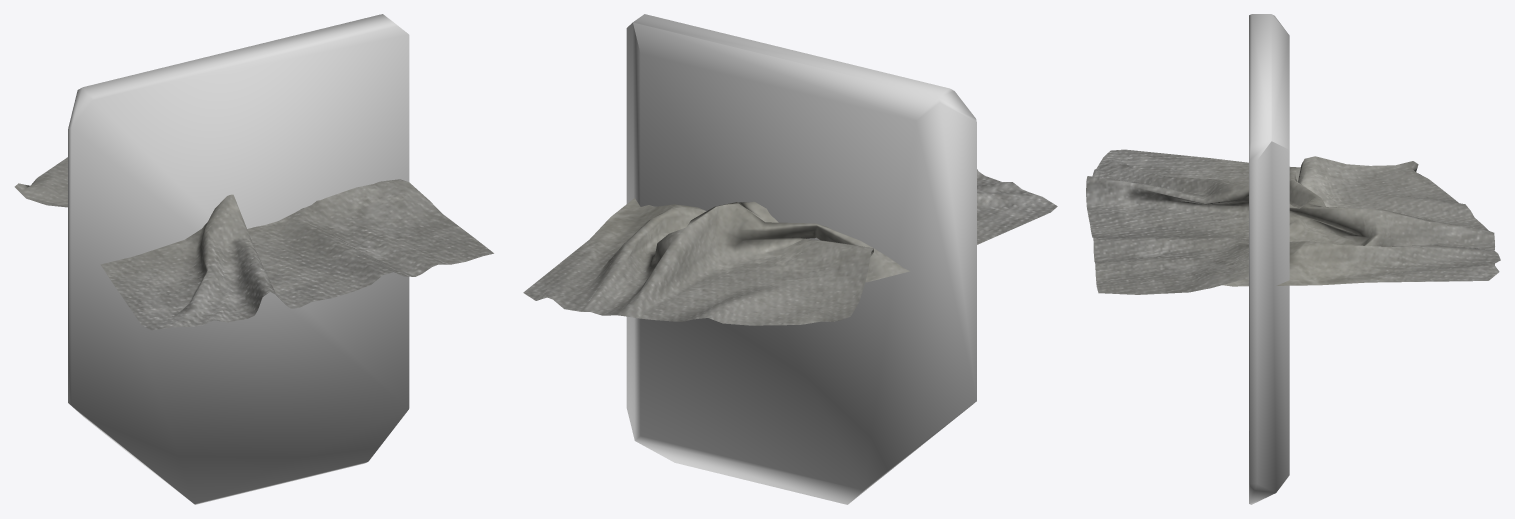
Rendered from SM_TissuGround.fbx.
3 renders of one model, left to right at view 1: azimuth 30°, elevation 25°; view 2: azimuth 150°, elevation 25°; view 3: azimuth 270°, elevation 25°, orthographic. The views are drawn at different scales.
Parts seen in each view (by area): view 1: SM_TissuGround_ConvexHulls, SM_TissuGround; view 2: SM_TissuGround_ConvexHulls, SM_TissuGround; view 3: SM_TissuGround, SM_TissuGround_ConvexHulls.
Boxes of the visible parts, box(x1,y1,x2,y2) form: SM_TissuGround_ConvexHulls: box(68, 14, 409, 504); SM_TissuGround: box(14, 157, 493, 330); SM_TissuGround_ConvexHulls: box(626, 14, 976, 504); SM_TissuGround: box(523, 169, 1057, 325); SM_TissuGround: box(1086, 149, 1500, 294); SM_TissuGround_ConvexHulls: box(1249, 14, 1289, 504).
Bounding box in the file's own units: 1.75 × 2.13 × 2.13.
